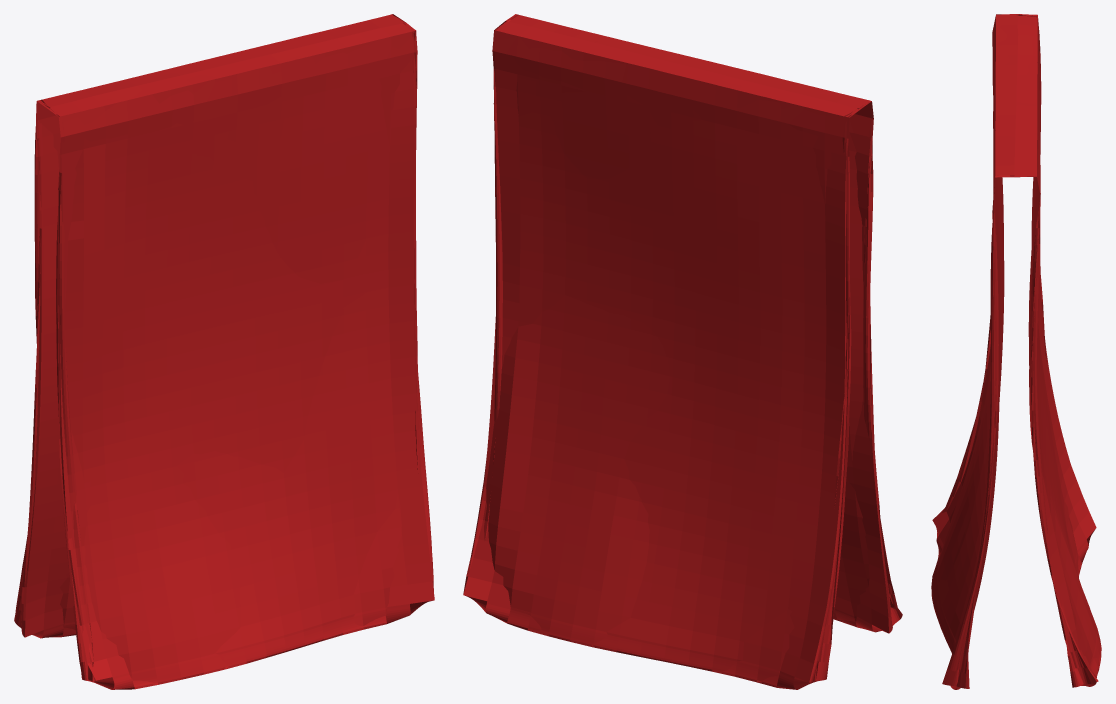
File: towel.fbx
3 views of the same model, side by side, from view 1: azimuth 30°, elevation 25°; view 2: azimuth 150°, elevation 25°; view 3: azimuth 270°, elevation 25° (orthographic). The views are drawn at different scales.
Visible parts, largest first — view 1: Plane; view 2: Plane; view 3: Plane.
Part boxes in pixels (<box>): Plane: <box>14,14,434,689</box>; Plane: <box>463,14,902,689</box>; Plane: <box>931,14,1101,689</box>.
Size of the model in its own units: 195 by 296 by 86.01.
